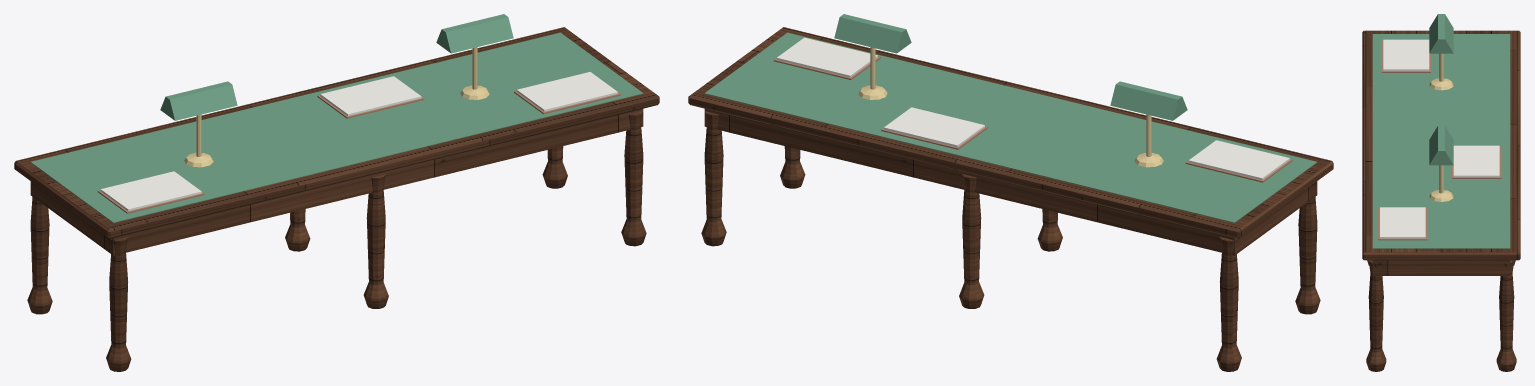
Rendered from reading_table.glb.
The picture shows the model from 3 angles, left to right: view 1: azimuth 30°, elevation 25°; view 2: azimuth 150°, elevation 25°; view 3: azimuth 270°, elevation 25°; orthographic projection. The views are drawn at different scales.
Visible parts, largest first — view 1: reading_table_felt, reading_table_dkwood, reading_table_linen, reading_table_brass, reading_table_leather; view 2: reading_table_felt, reading_table_dkwood, reading_table_linen, reading_table_brass, reading_table_leather; view 3: reading_table_felt, reading_table_dkwood, reading_table_linen, reading_table_brass, reading_table_leather.
Part boxes in pixels (x1,y1,x2,y2): reading_table_felt: (30, 14, 643, 222); reading_table_dkwood: (14, 27, 659, 371); reading_table_linen: (100, 72, 617, 211); reading_table_brass: (184, 47, 489, 167); reading_table_leather: (97, 90, 620, 213); reading_table_felt: (704, 14, 1317, 222); reading_table_dkwood: (688, 27, 1333, 371); reading_table_linen: (776, 37, 1289, 179); reading_table_brass: (858, 47, 1163, 167); reading_table_leather: (773, 56, 1292, 182); reading_table_felt: (1372, 14, 1510, 248); reading_table_dkwood: (1362, 30, 1520, 371); reading_table_linen: (1380, 39, 1499, 238); reading_table_brass: (1429, 53, 1453, 201); reading_table_leather: (1378, 40, 1501, 240).
Size of the model in its own units: 3 by 1.14 by 0.9.
Materials: 6 (1 with a texture image).
